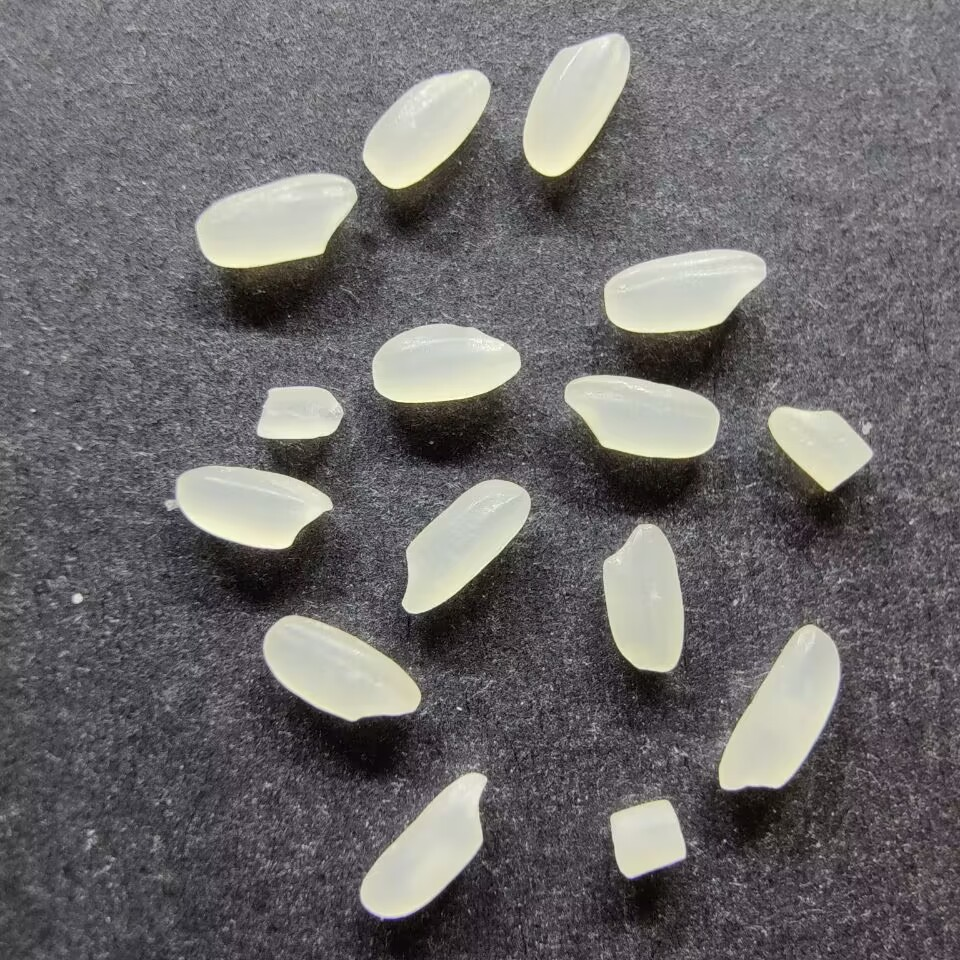broken: (765, 400, 876, 494), (608, 795, 689, 879), (256, 386, 346, 442)
rice: (715, 623, 843, 792), (356, 767, 489, 920), (398, 477, 533, 615), (259, 611, 423, 722), (519, 30, 631, 178), (359, 65, 491, 190), (194, 169, 358, 269), (601, 247, 770, 334), (172, 463, 335, 550), (561, 373, 721, 461), (599, 521, 687, 674), (368, 322, 522, 405)
